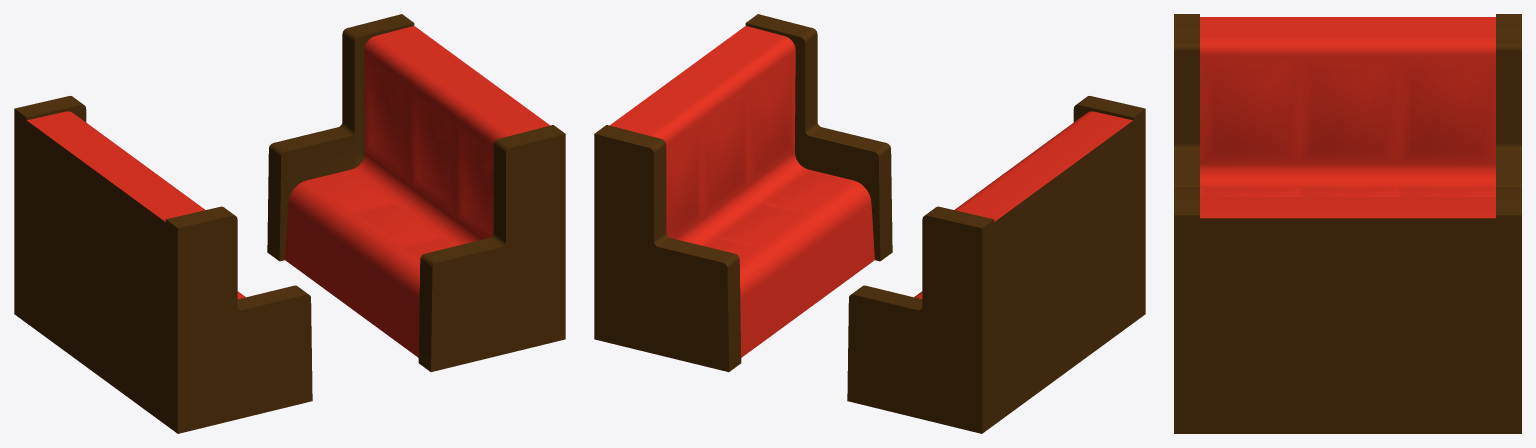
The model's file is ChairA.fbx.
3 renders of one model, left to right at view 1: azimuth 30°, elevation 25°; view 2: azimuth 150°, elevation 25°; view 3: azimuth 270°, elevation 25°, orthographic. The views are drawn at different scales.
Visible parts, largest first — view 1: StationaryChairs; view 2: StationaryChairs; view 3: StationaryChairs.
Boxes of the visible parts, box(x1,y1,x2,y2) form: StationaryChairs: box(14, 14, 565, 433); StationaryChairs: box(594, 14, 1145, 433); StationaryChairs: box(1174, 14, 1521, 433).
Bounding box in the file's own units: 200 × 101 × 146.
